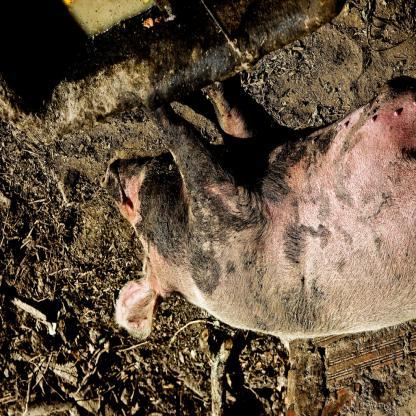boar: (99, 79, 415, 340)
